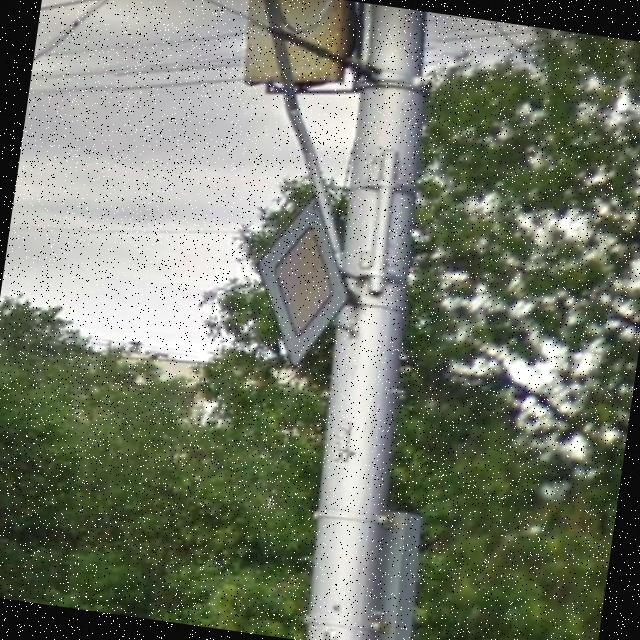Droga z pierwszenstwem: (242, 185, 366, 378)
